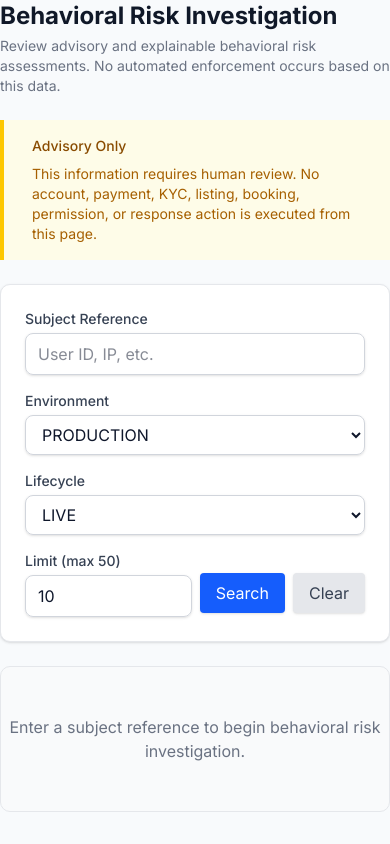
Scenario: Behavioral Risk Investigation Dashboard (Slice 4) › Client Interactions and Validation › 15. Unauthorized handled, 16. Forbidden handled, 17. Not-found handled safely, 18. Generic server error sanitized
Type "u1" into the field labelled "Subject Reference" at (195, 354), box [25,333,365,375]
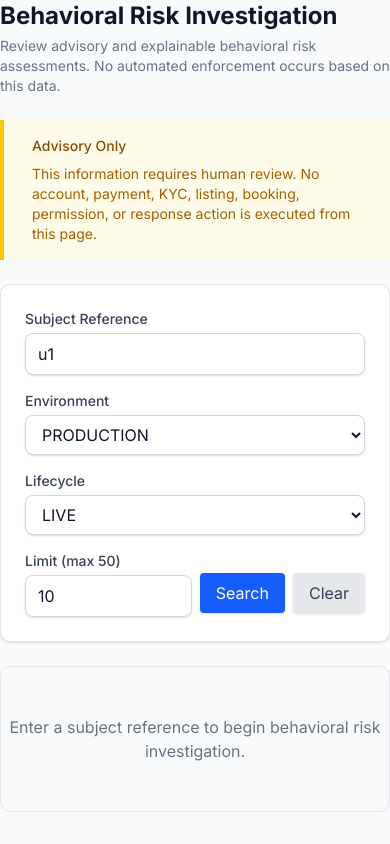
Submit the form "Search", box [0,284,389,642]
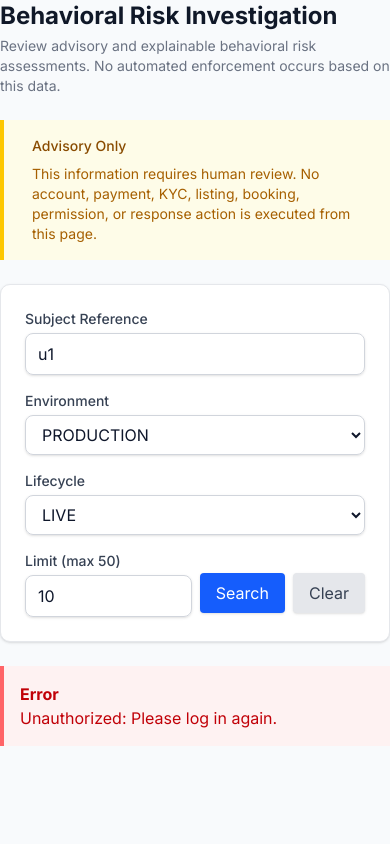
Result: the text "Unauthorized: Please log in again." is shown at [20,708,277,728]
Submit the form "Search", box [0,284,389,642]
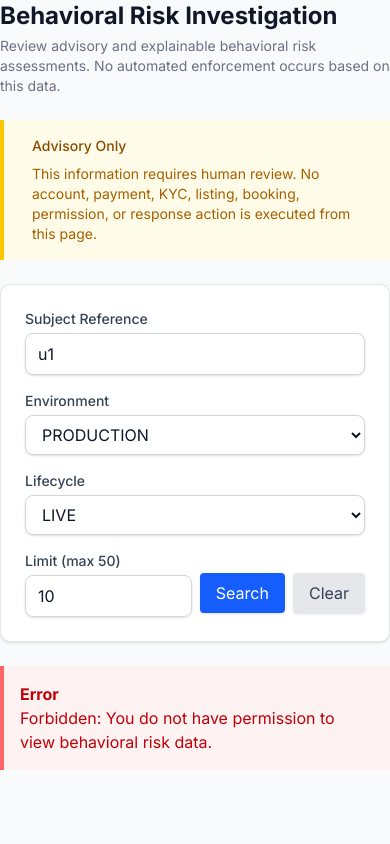
Result: the text "Forbidden: You do not have permission" is shown at [20,708,335,752]
Submit the form "Search", box [0,284,389,642]
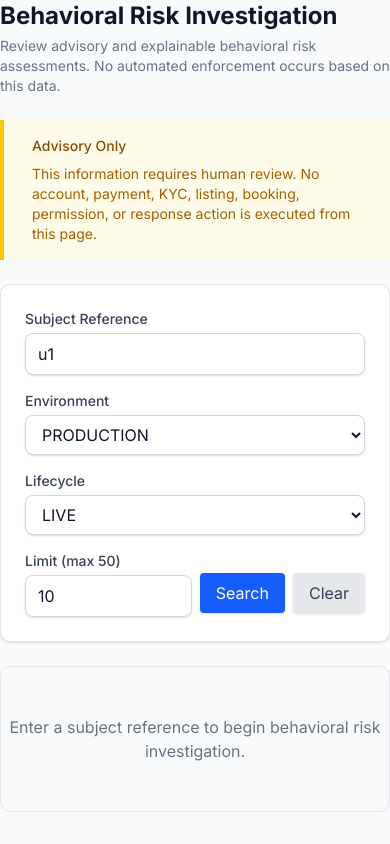
Expected: the text "assessment" is shown, [0,37,389,94]
Submit the form "Search", box [0,284,389,642]
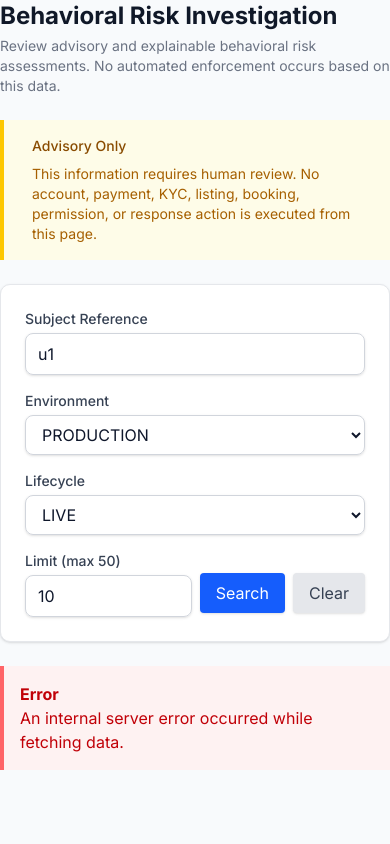
Result: the text "An internal server error occurred while fetching data." is shown at [20,708,312,752]
